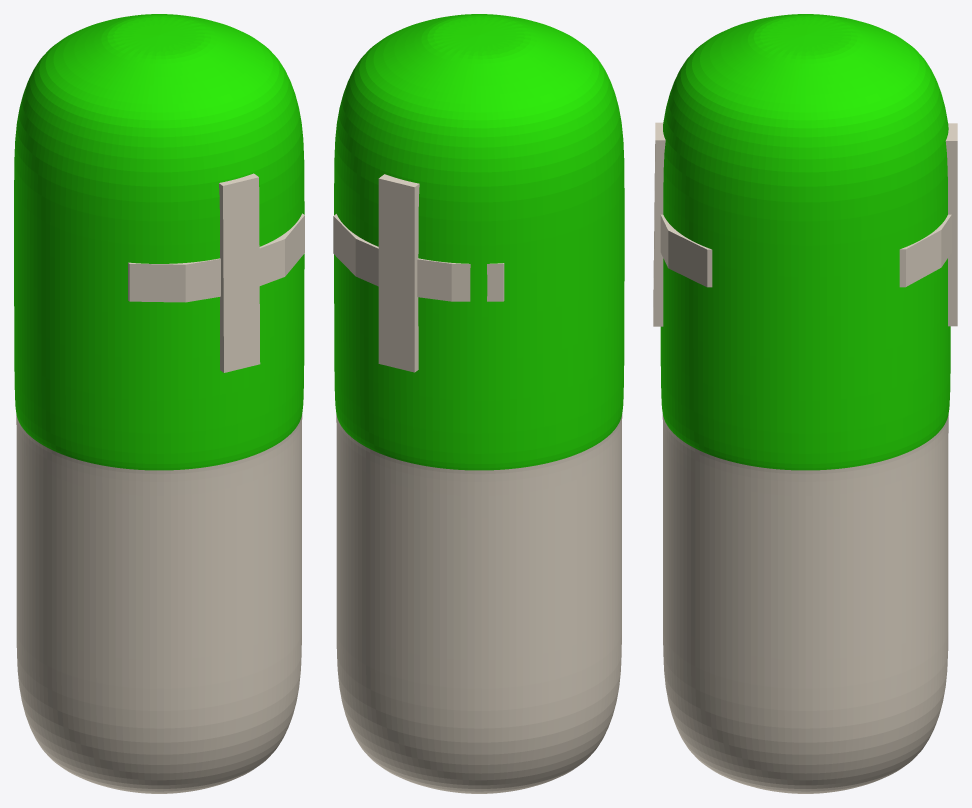
The model's file is PastillasCuracion.fbx.
The picture shows the model from 3 angles, left to right: view 1: azimuth 30°, elevation 25°; view 2: azimuth 150°, elevation 25°; view 3: azimuth 270°, elevation 25°; orthographic projection.
Visible parts, largest first — view 1: Pastilla3; view 2: Pastilla3; view 3: Pastilla3.
Part boxes in pixels (x1,y1,x2,y2): Pastilla3: [14, 14, 304, 793]; Pastilla3: [333, 14, 624, 793]; Pastilla3: [653, 14, 957, 793].
Bounding box in the file's own units: 202 × 567 × 212.
